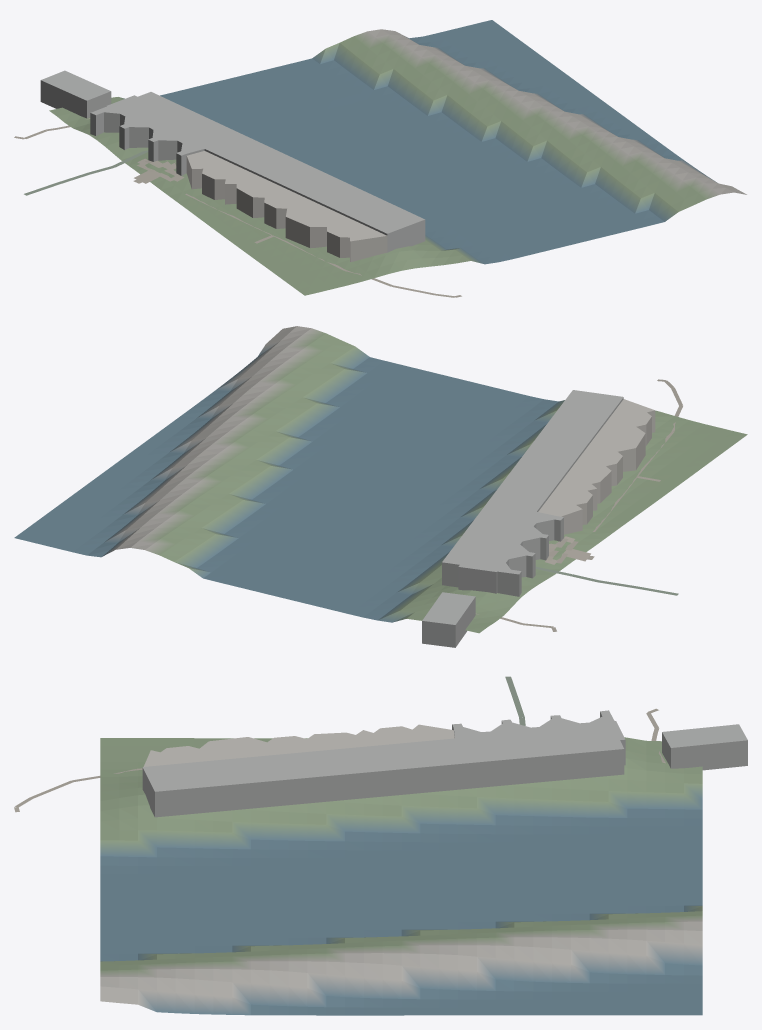
File: tile_8_-5.glb
3 views of the same model, one above another, from view 1: azimuth 30°, elevation 25°; view 2: azimuth 150°, elevation 25°; view 3: azimuth 270°, elevation 25° (orthographic). The views are drawn at different scales.
Visible parts, largest first — view 1: terrain, buildings, paths; view 2: terrain, buildings, paths; view 3: terrain, buildings, paths.
Boxes of the visible parts, x1,y1,x2,y2 form: terrain: (49,20,746,295); buildings: (40,70,425,262); paths: (14,118,461,297); terrain: (14,326,747,633); buildings: (422,390,655,647); paths: (475,379,682,631); terrain: (100,737,702,1015); buildings: (142,710,747,817); paths: (14,676,665,812).
Bounding box in the file's own units: 318 × 24.24 × 312.
